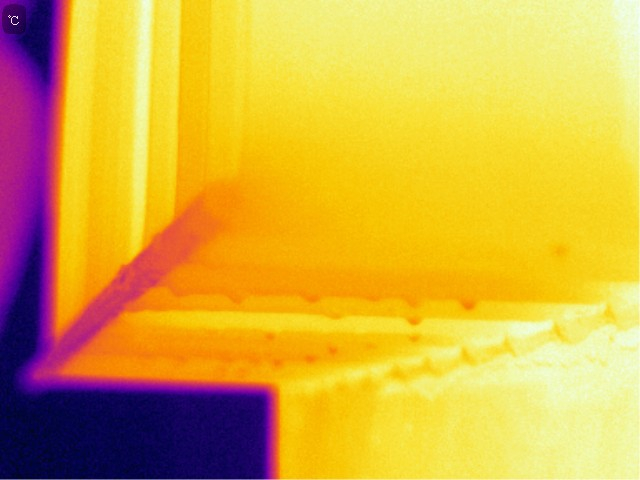Oil: (401, 317, 429, 343), (168, 285, 195, 307), (224, 287, 252, 308), (298, 351, 319, 370), (301, 290, 321, 308), (326, 343, 348, 359), (405, 295, 426, 311), (269, 358, 288, 375), (266, 328, 278, 349), (459, 298, 476, 311)
